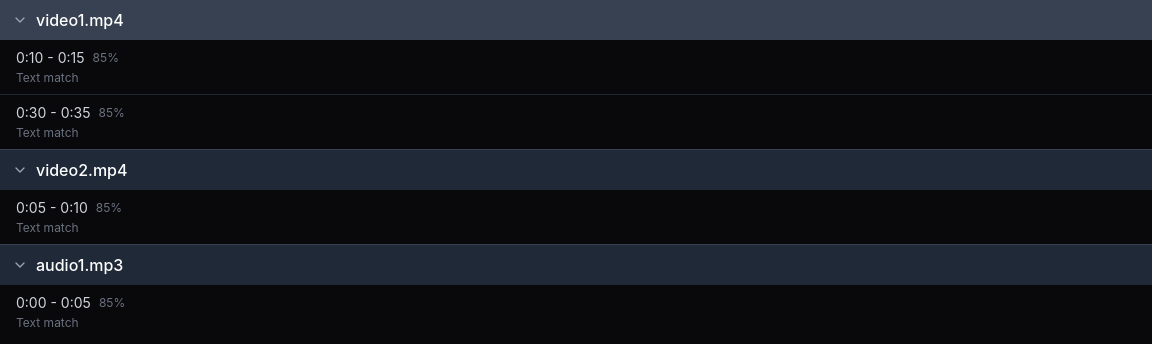
Test: GroupedSearchResults › Expand/Collapse › can collapse a group
Click first group header to collapse
Click the button "video1.mp4" at (80, 20), box [0,0,1151,40]
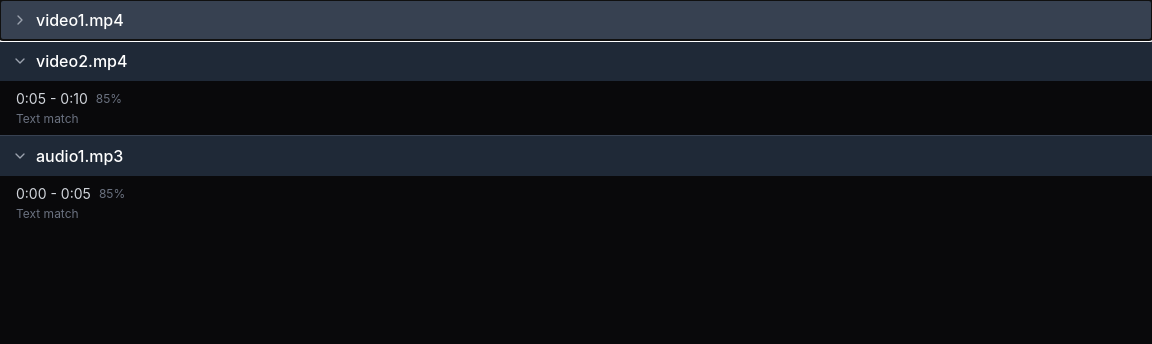
Expected: the number of elements with test id "search-result-item" is 2, [16,90,122,126]; [16,185,125,221]
